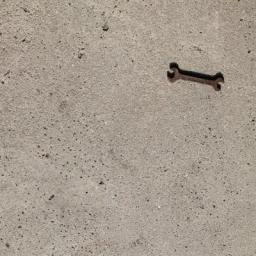FOD: (163, 58, 229, 97)
